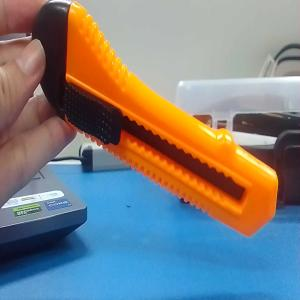estilete: (31, 0, 279, 238)
